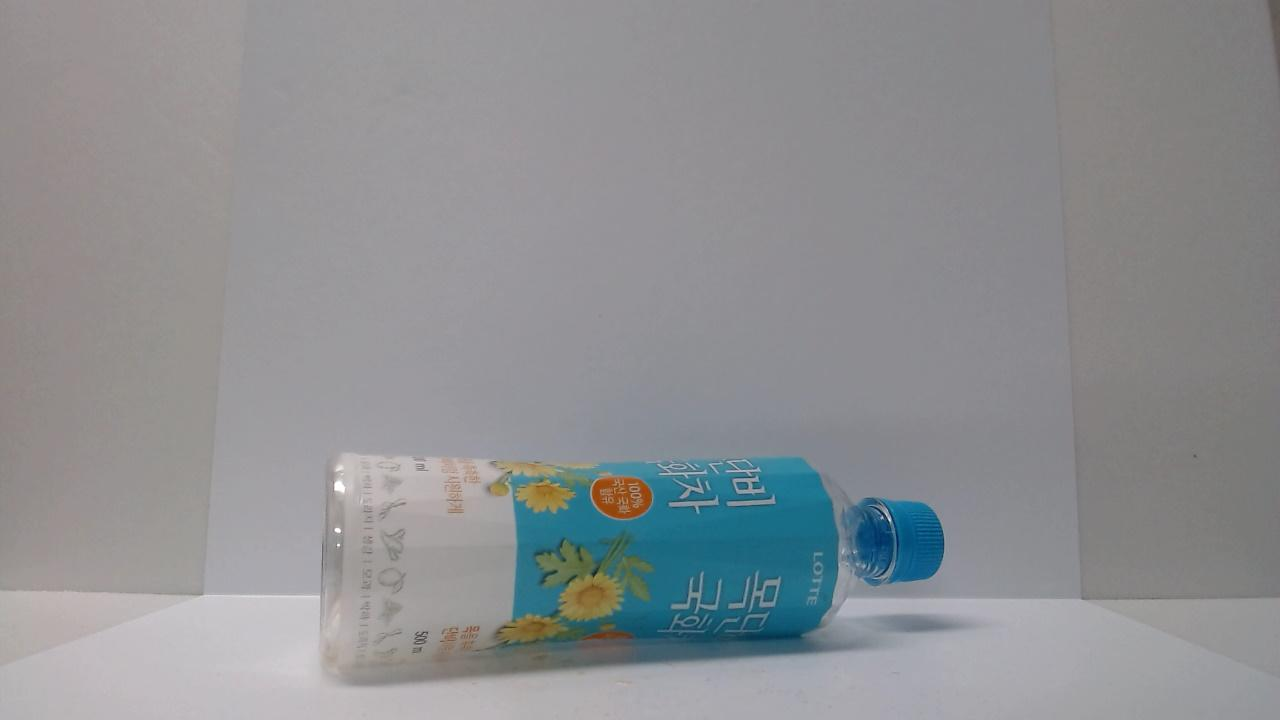bottle: (310, 435, 952, 685)
